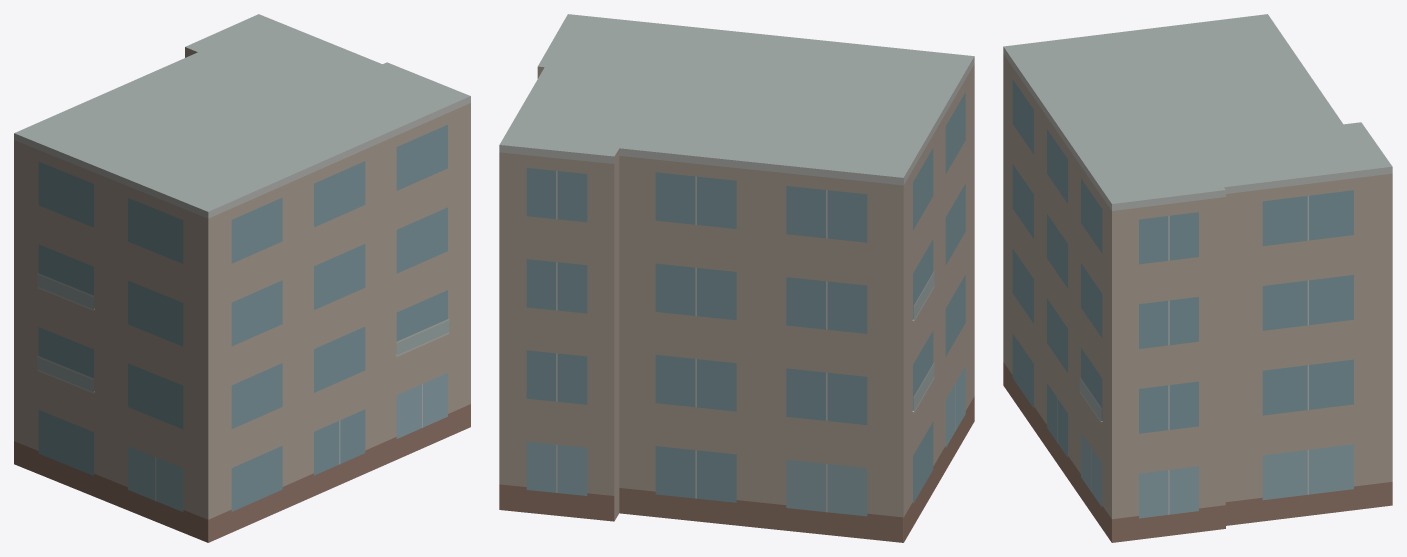
Rendered from survey-upis-32622136.glb.
3 renders of one model, left to right at view 1: azimuth 30°, elevation 25°; view 2: azimuth 150°, elevation 25°; view 3: azimuth 270°, elevation 25°, orthographic. The views are drawn at different scales.
Parts seen in each view (by area): view 1: survey-upis-32622136.tmp; view 2: survey-upis-32622136.tmp; view 3: survey-upis-32622136.tmp.
Boxes of the visible parts, x1=… form: survey-upis-32622136.tmp: x1=14, y1=14, x2=470, y2=542; survey-upis-32622136.tmp: x1=499, y1=14, x2=974, y2=542; survey-upis-32622136.tmp: x1=1003, y1=14, x2=1392, y2=542.
Bounding box in the file's own units: 14.33 × 11.9 × 12.4.
